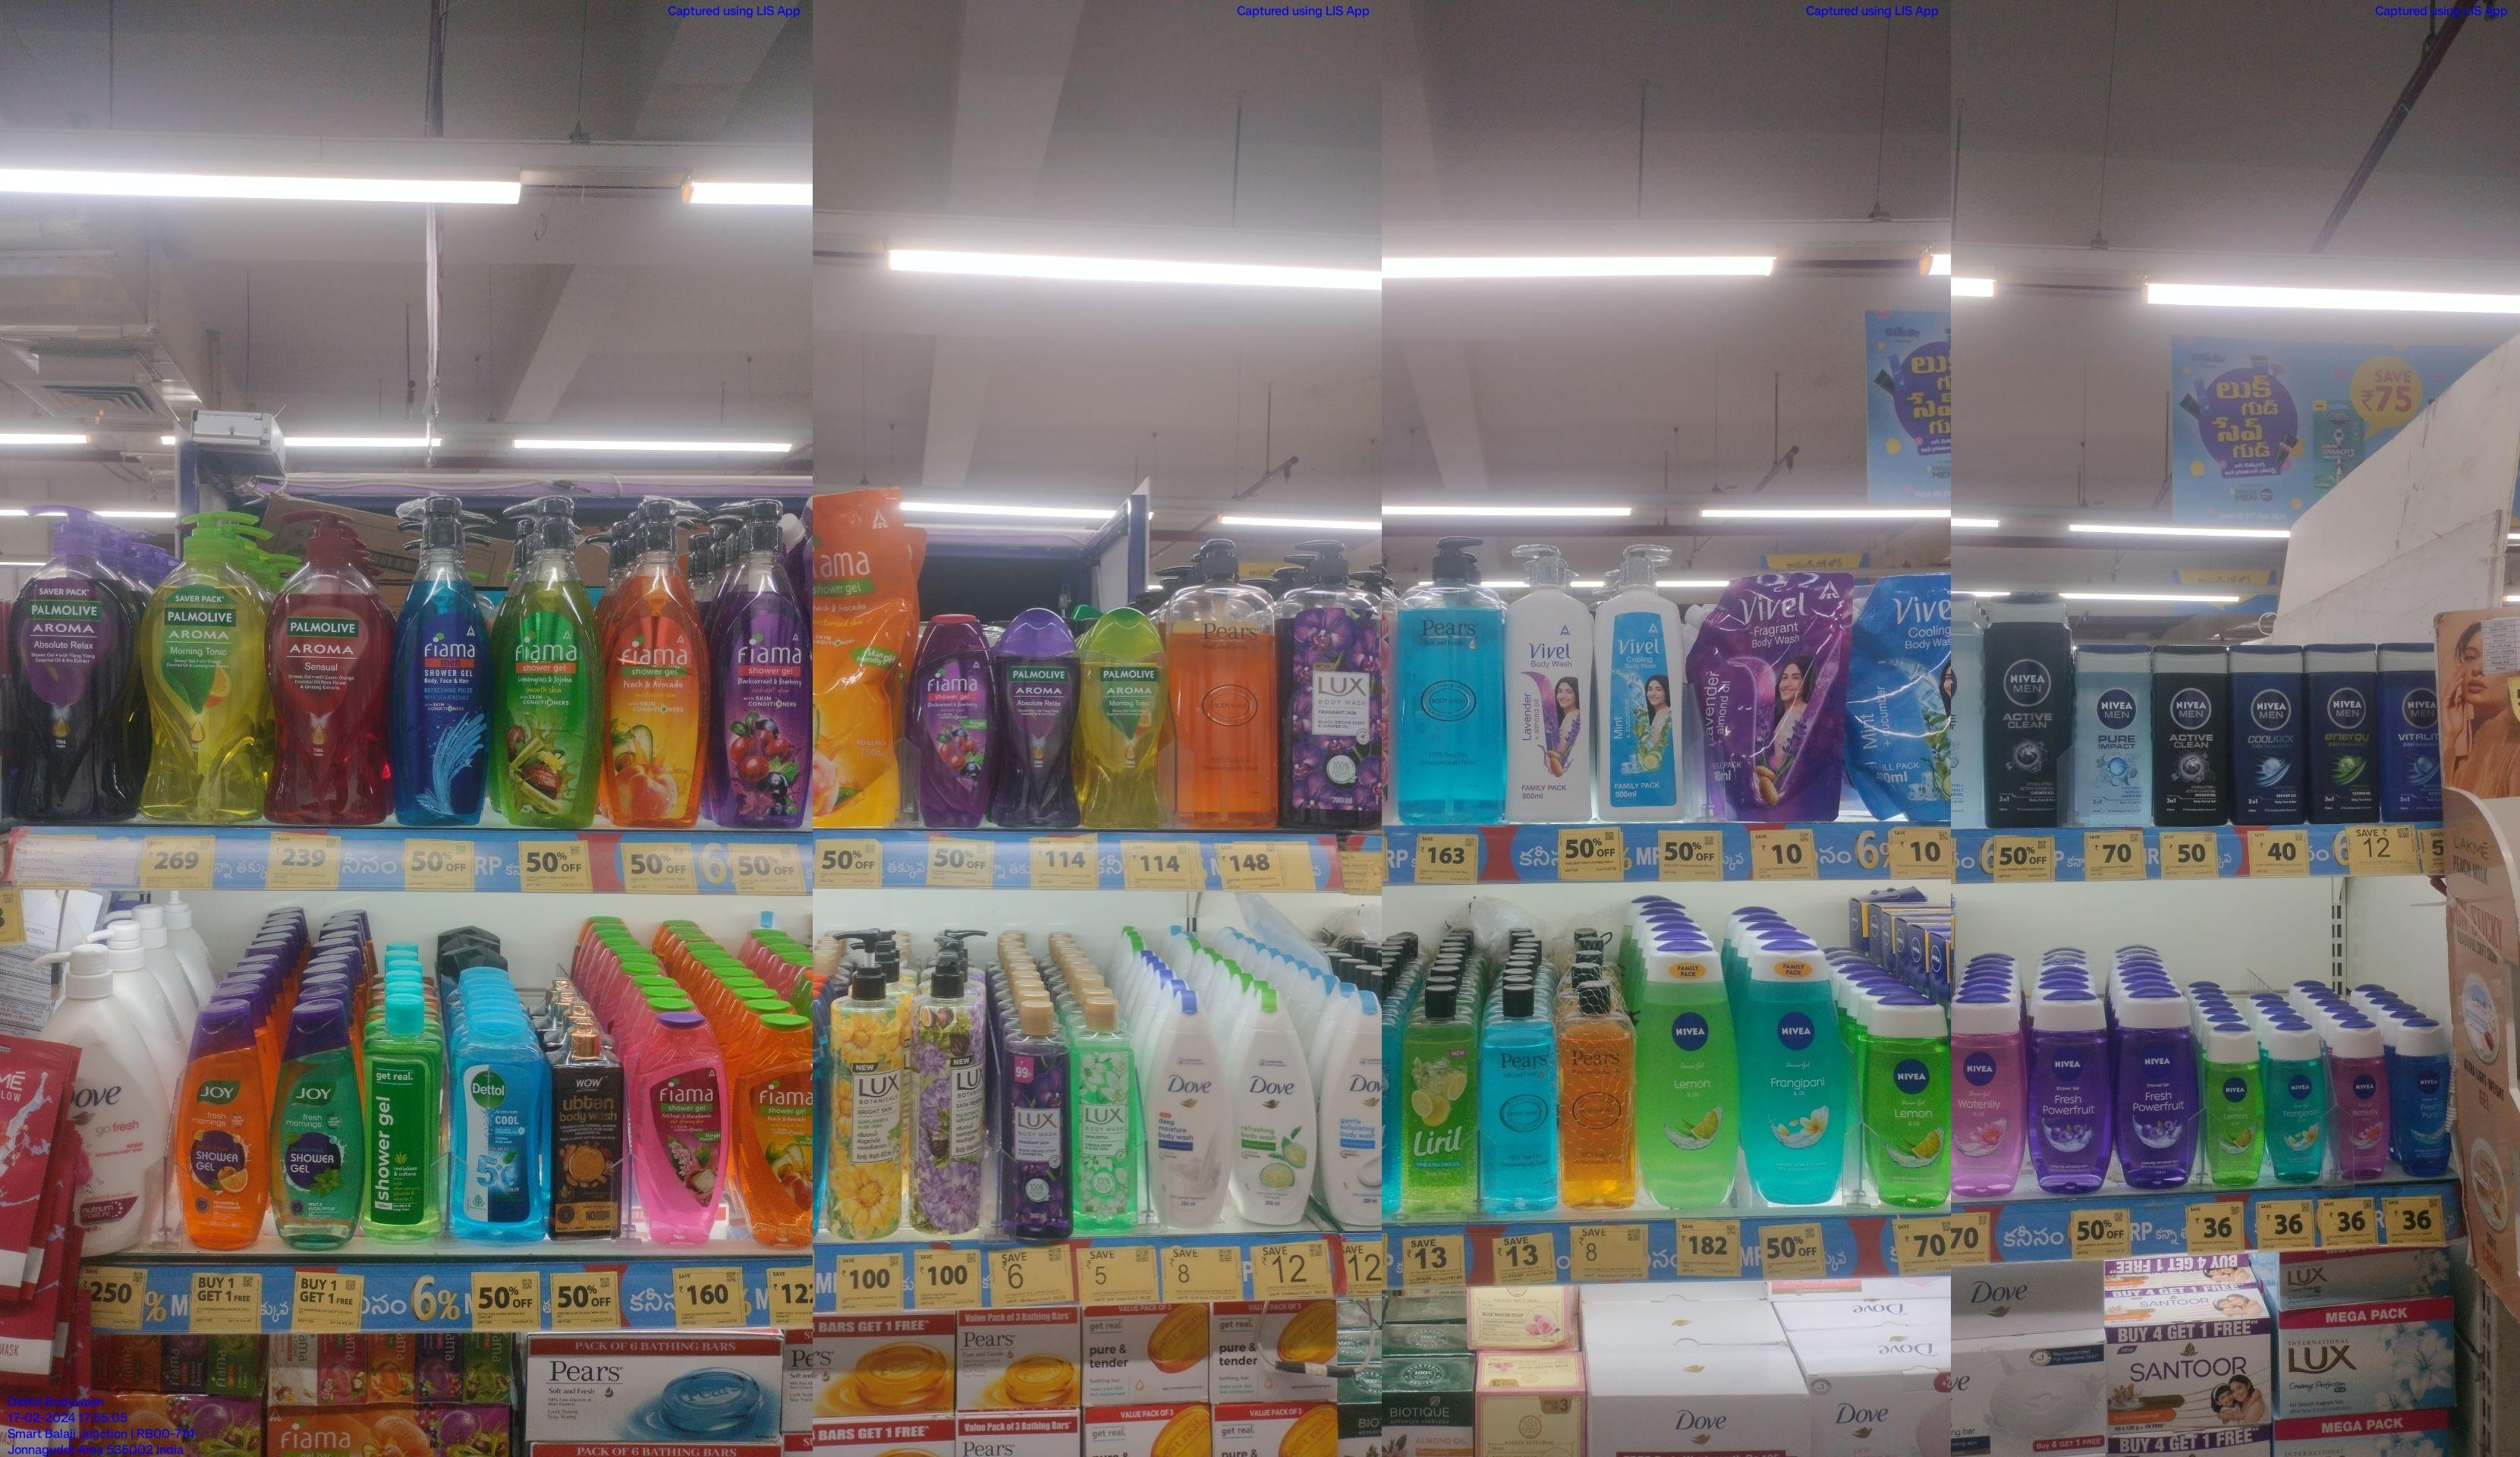Dettol_Bodywash_Cool: (447, 1016, 548, 1242)
Dove_Deep_Moisture_Body_Wash_250ML: (1153, 990, 1231, 1230)
Dove_Gentle_Exfoliating_Body_Wash_250ML: (1322, 992, 1382, 1232)
Dove_Refreshing_Body_Wash_250ML: (1233, 982, 1316, 1225)
Fiama_Shower_Gel_Patchouli_and_Macadamia_250ML: (628, 1006, 727, 1247)
Fiama_Shower_Gel_Peach_and_Avocado_250ML: (739, 1011, 815, 1251)
Joy_Shower_Gel_Mandarin_and_Lemongrass_250ML: (182, 1004, 264, 1251)
Joy_Shower_Gel_Mint_and_Eucalyptus_250ML: (271, 1006, 366, 1252)
Liril_Lime_and_Tea_Tree_Oil_Body_Wash_250ML: (1405, 987, 1476, 1209)
Lux_Black_Orchid_Scent_and_Juniper_Oil_Body_Wash_245ML: (1001, 999, 1074, 1240)
Lux_Body_Wash_Skin_Detox_Freesia_Scent_and_Alove_Vera_245ML: (1075, 996, 1139, 1238)
Nivea_Shower_Gel_Frangipani_and_Oil_250ML: (1746, 952, 1845, 1211)
Nivea_Shower_Gel_Fresh_Powerfruit_250ML: (2027, 989, 2111, 1193), (2112, 992, 2199, 1185)
Nivea_Shower_Gel_Lemon_and_Oil_250ML: (1637, 956, 1743, 1205), (1863, 997, 1951, 1205)
Nivea_Shower_Gel_Waterlily_and_Oil_250ML: (1955, 992, 2024, 1192)
Palmolive_Aroma_Morning_Tonic_Shower_Gel_250ML: (1082, 607, 1160, 829)
Palmolive_Aroma_Relax_250ML: (994, 607, 1080, 831)
Pears_Pure_Glycerin_and_Mint_Extracts_Body_Wash_250ML: (1481, 987, 1557, 1212)
